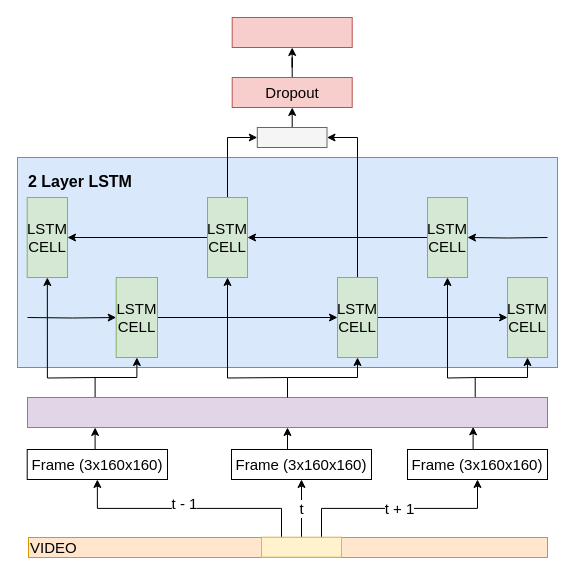
Some shapes in this 575 by 575 pixel diagram are drawn without their labels. The centre of each missing label's shape, as x and y in pixels:
"2D CNN Encoder Inception Resnet V1" goes at point (287, 412).
"Concat" goes at point (291, 137).
"Linear" goes at point (291, 32).
"WINDOW" goes at point (301, 546).
